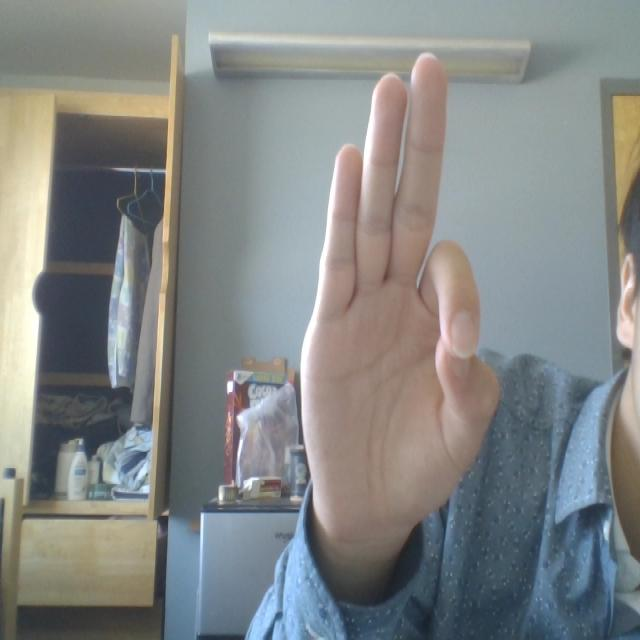F: (279, 4, 560, 583)
